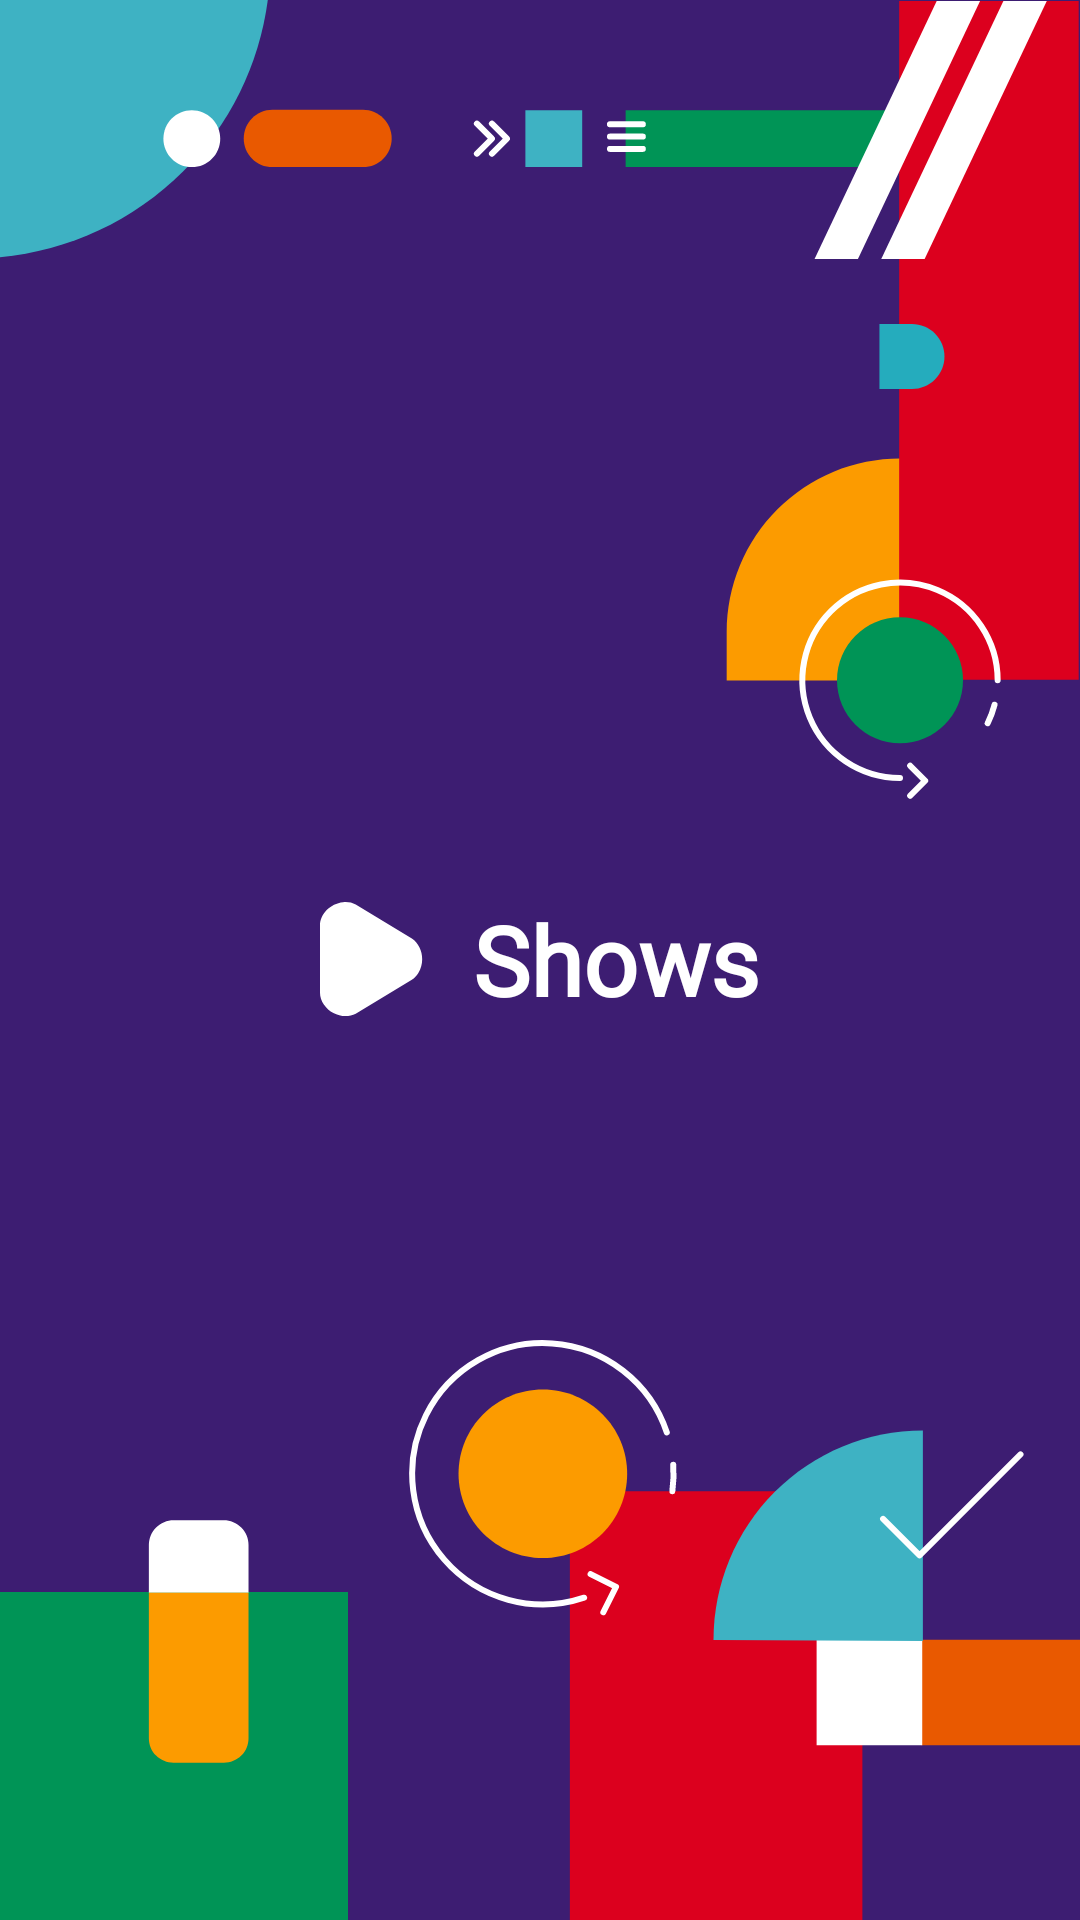

Screen size 1080×1920. Icon name, then its box in pixels as (x1, y1, x2, y2):
login triangle: (320, 902, 423, 1016)
